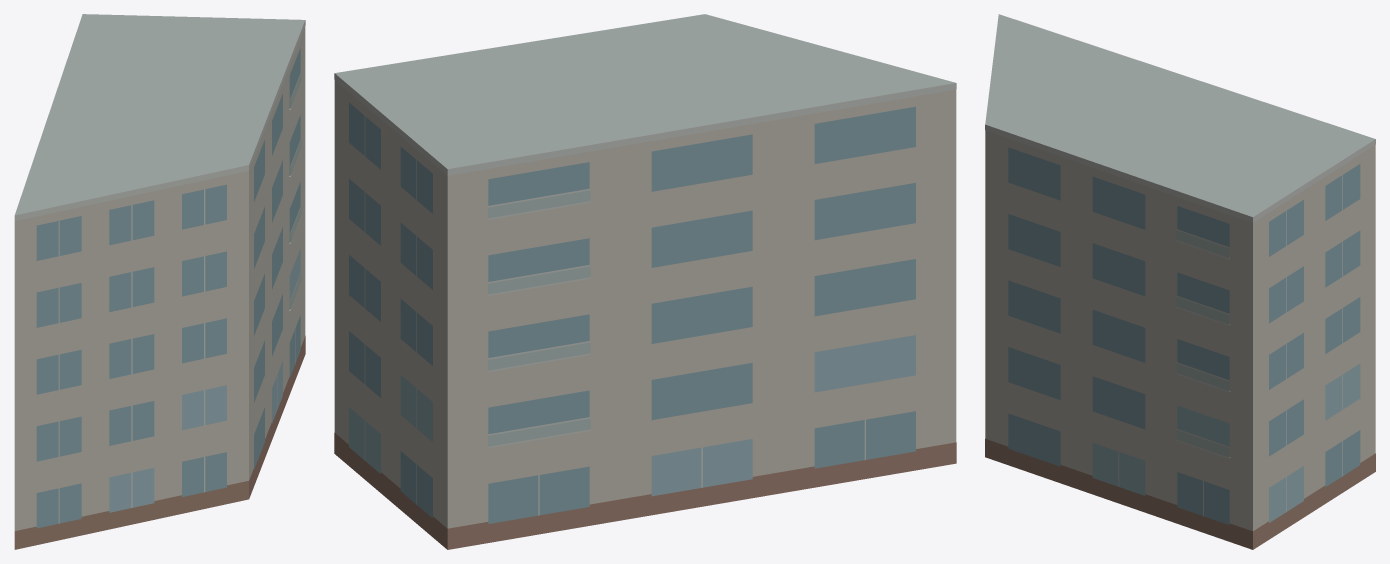
File: survey-upis-32984799.glb
3 views of the same model, side by side, from view 1: azimuth 30°, elevation 25°; view 2: azimuth 150°, elevation 25°; view 3: azimuth 270°, elevation 25° (orthographic). The views are drawn at different scales.
Visible parts, largest first — view 1: survey-upis-32984799.tmp; view 2: survey-upis-32984799.tmp; view 3: survey-upis-32984799.tmp.
Boxes of the visible parts, x1,y1,x2,y2 form: survey-upis-32984799.tmp: (14, 14, 305, 549); survey-upis-32984799.tmp: (334, 14, 956, 549); survey-upis-32984799.tmp: (985, 14, 1375, 549).
Size of the model in its own units: 18.48 by 14.1 by 15.01.
